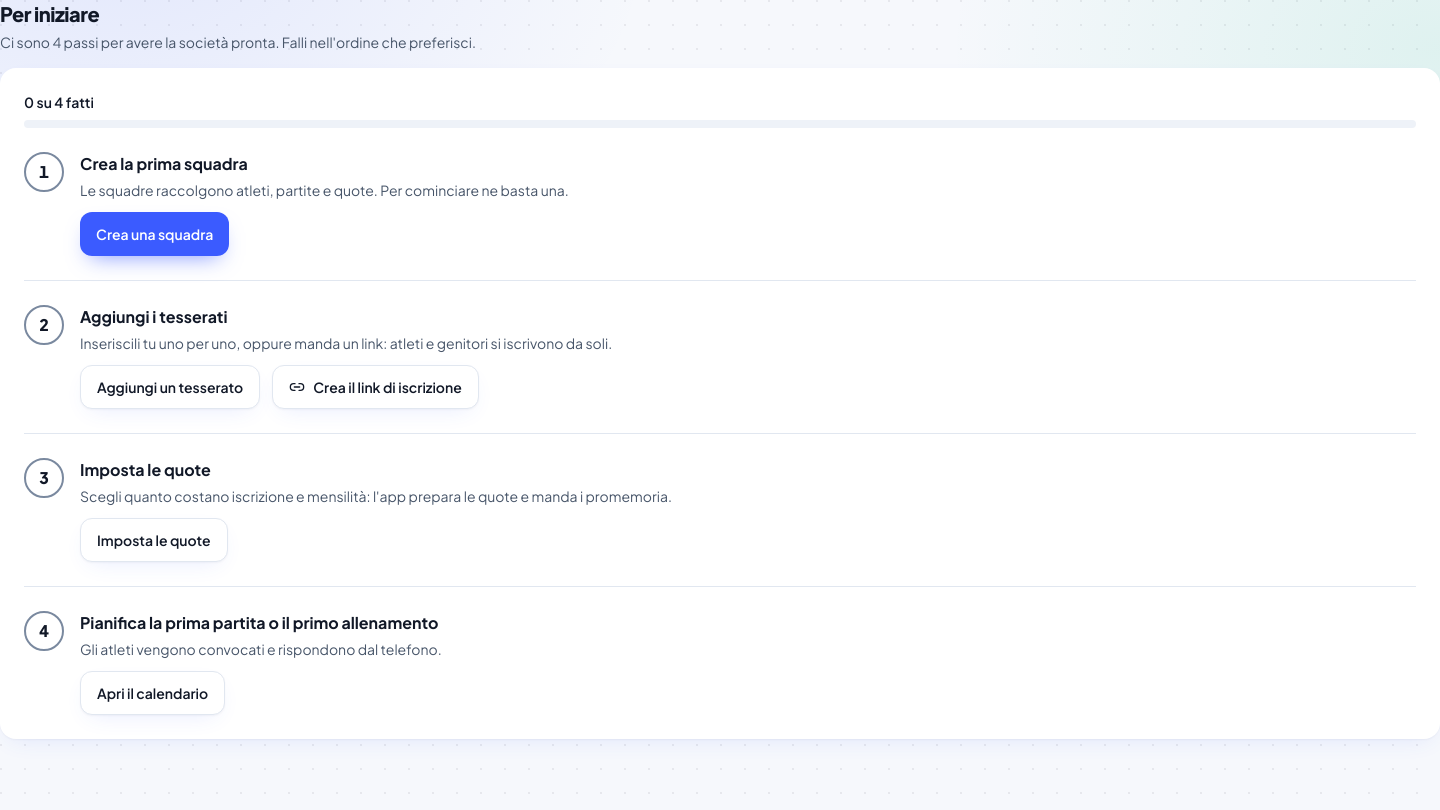
Test: GettingStarted › opens the enrolment link dialog from the members step
The width and height of the screenshot is (1440, 810).
Click the button "Crea il link di iscrizione" at (376, 387), box [272,365,479,409]
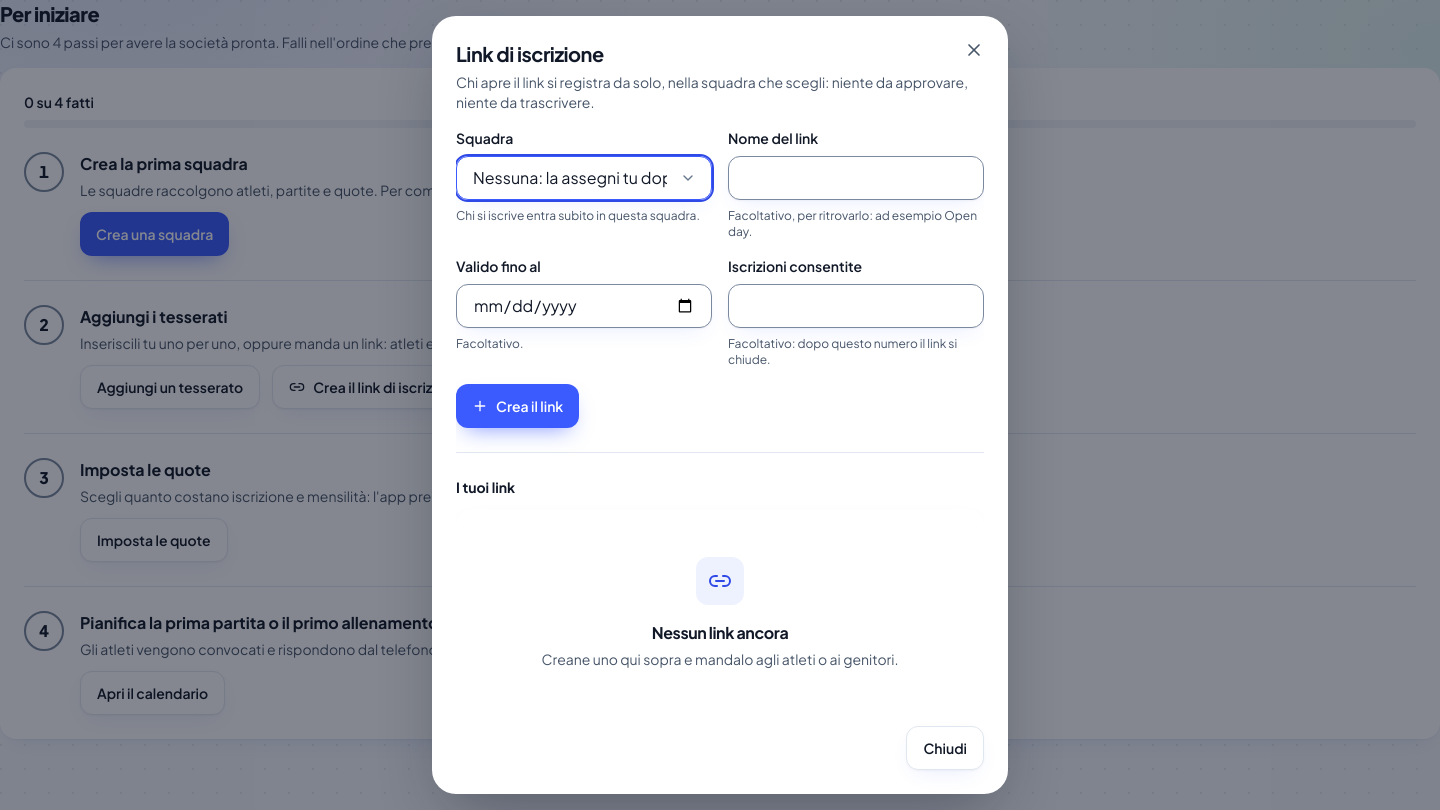
Expected: the dialog "Link di iscrizione" is shown, [432,16,1008,794]
